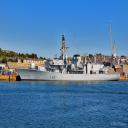Fragata: (16, 34, 122, 83)
